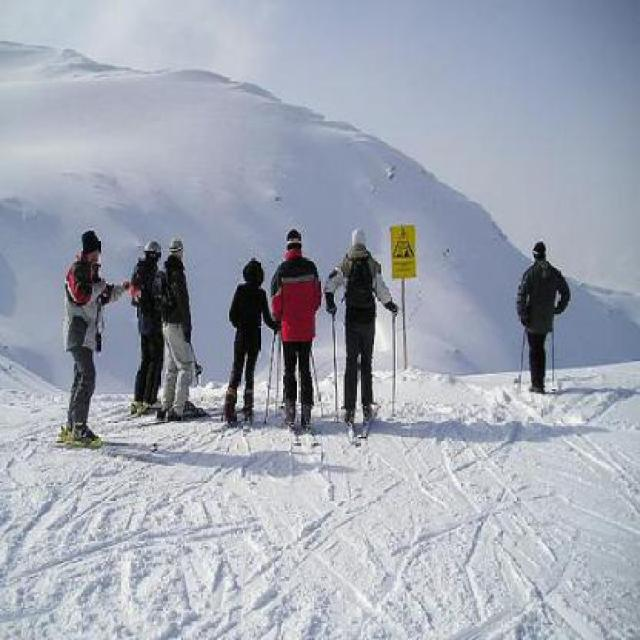Person: (320, 224, 398, 425), (61, 227, 125, 444), (268, 226, 320, 428), (513, 235, 569, 391), (229, 261, 273, 413), (124, 234, 162, 408), (159, 231, 193, 418)
